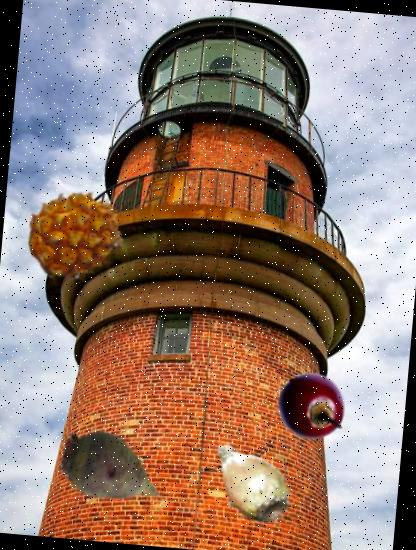Beetroot: (54, 410, 173, 529)
Cactus: (197, 430, 301, 534)
Pineapple: (23, 182, 128, 288)
Tamarillo: (274, 370, 350, 446)
